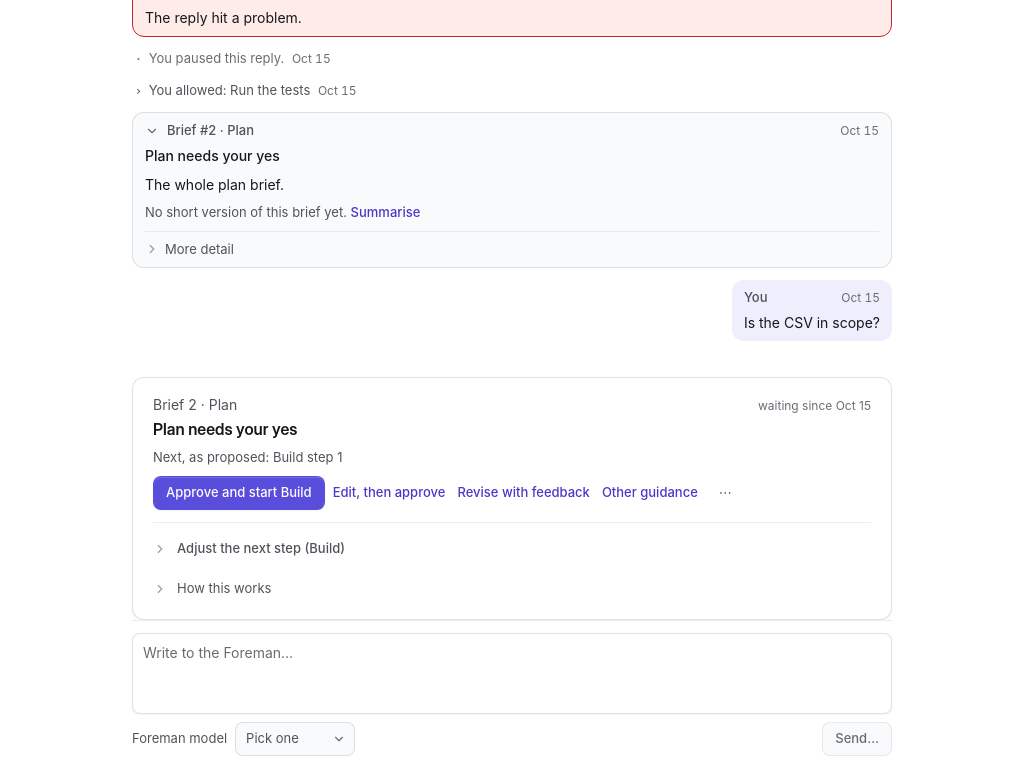
it: Foreman pane › pins the gate card above the composer; the brief stays open for a plain message and folds once a gate reply answers it
(page scrolled)
Expected: the text "The whole plan brief." is shown, [145,176,284,193]
Expected: the text "Answered" is not shown
Click the button "Approve and start Build" at (239, 493), box [153,476,325,510]
(page scrolled)
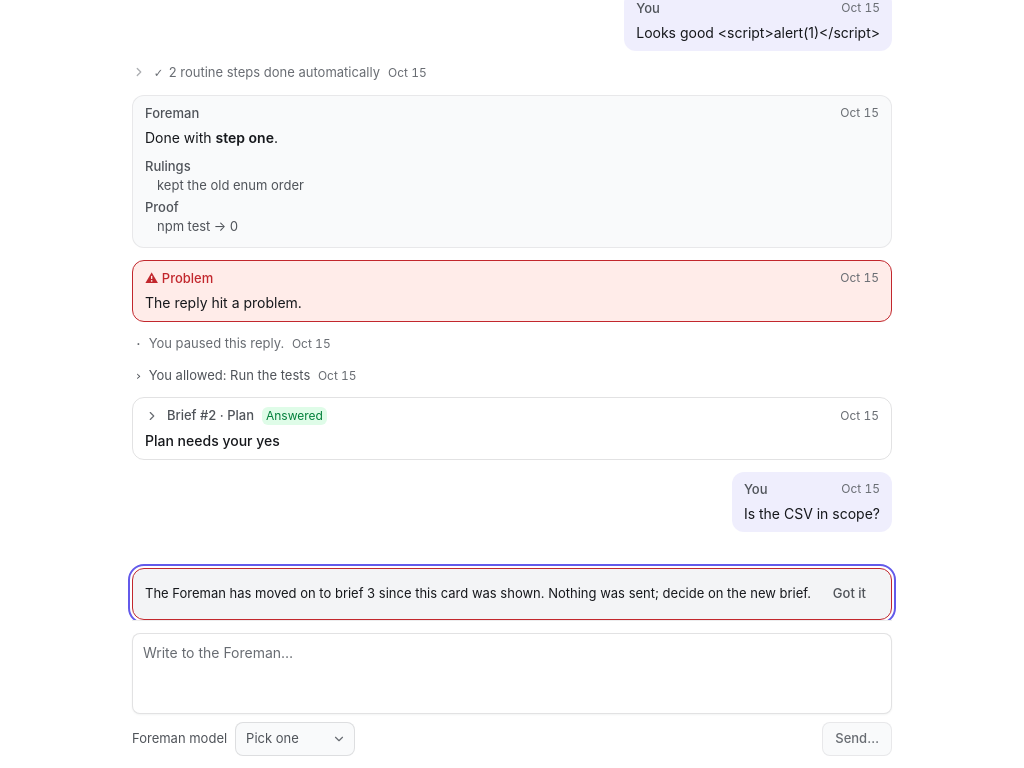
Now the message shows "moved on to brief 3", box [145,586,811,602]
Now the text "Answered" is shown, box [262,407,327,425]
Now the button "Brief #2 · Plan Answered Oct 15" is collapsed, box [145,401,879,431]
